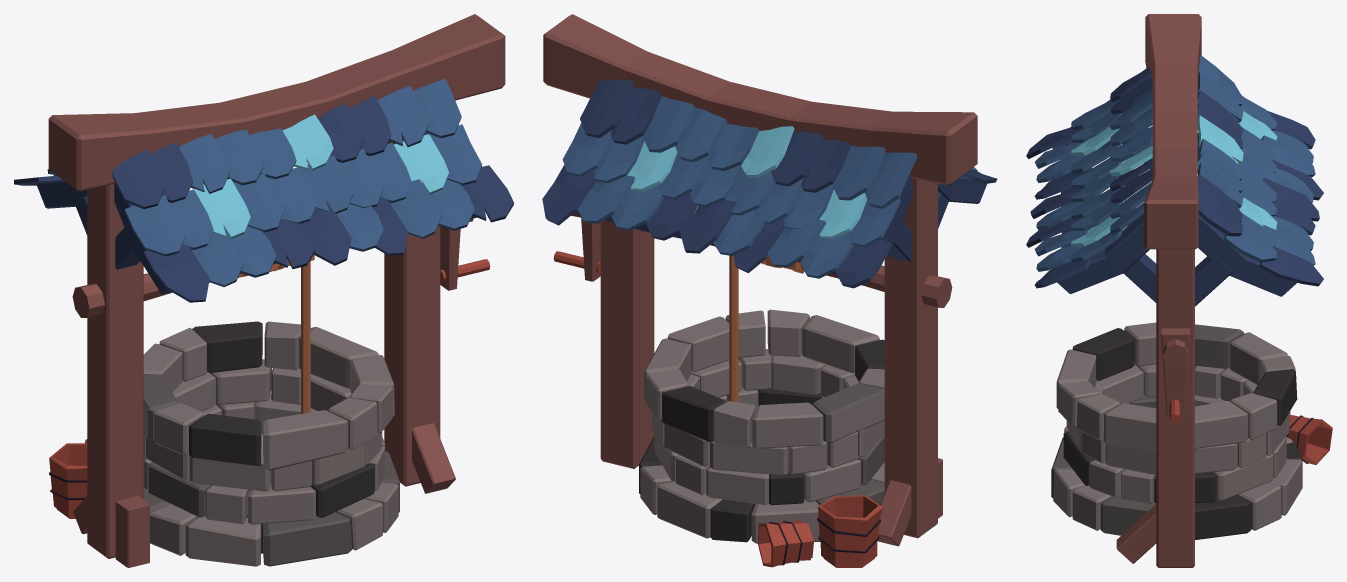
The model's file is poço2.fbx.
3 renders of one model, left to right at view 1: azimuth 30°, elevation 25°; view 2: azimuth 150°, elevation 25°; view 3: azimuth 270°, elevation 25°, orthographic. The views are drawn at different scales.
Visible parts, largest first — view 1: Plane.003, Cylinder.002; view 2: Plane.003, Cylinder.002, Cylinder.003; view 3: Plane.003, Cylinder.003.
Boxes of the visible parts, x1=… form: Plane.003: x1=14, y1=14, x2=513, y2=567; Cylinder.002: x1=49, y1=443, x2=87, y2=518; Plane.003: x1=542, y1=14, x2=997, y2=546; Cylinder.002: x1=817, y1=495, x2=882, y2=567; Cylinder.003: x1=758, y1=520, x2=813, y2=567; Plane.003: x1=1026, y1=14, x2=1323, y2=567; Cylinder.003: x1=1286, y1=414, x2=1332, y2=464.
Size of the model in its own units: 245 by 241 by 169.
